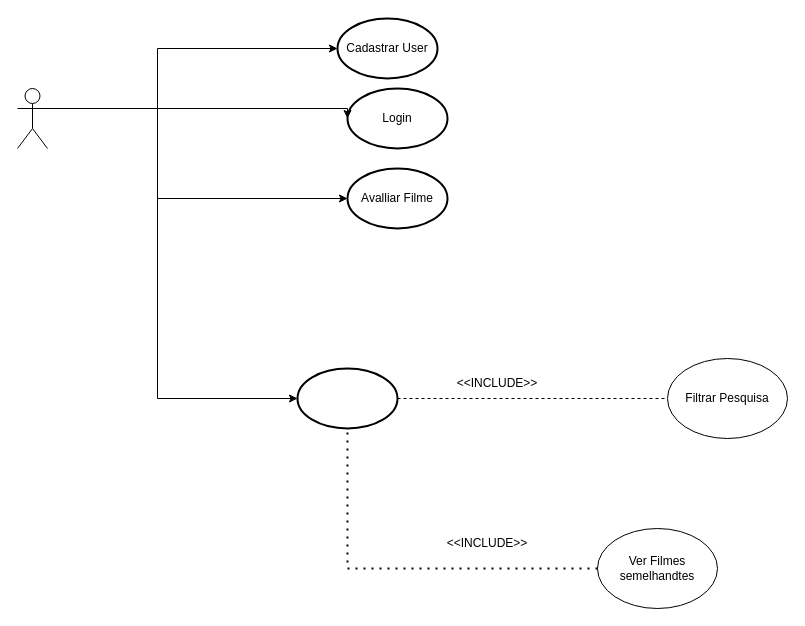
The diagram is 805 pixels wide and 626 high, and some of its shapes have lost their labels. Each missing label, with the centre of its shape:
"Pesquisar Filme" goes at point 347,398.
"User" goes at point 32,118.
